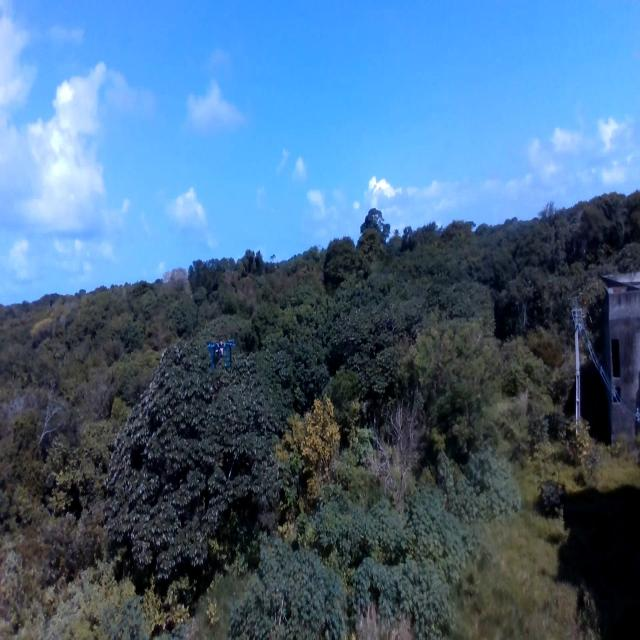-uav-: (202, 330, 236, 375)
